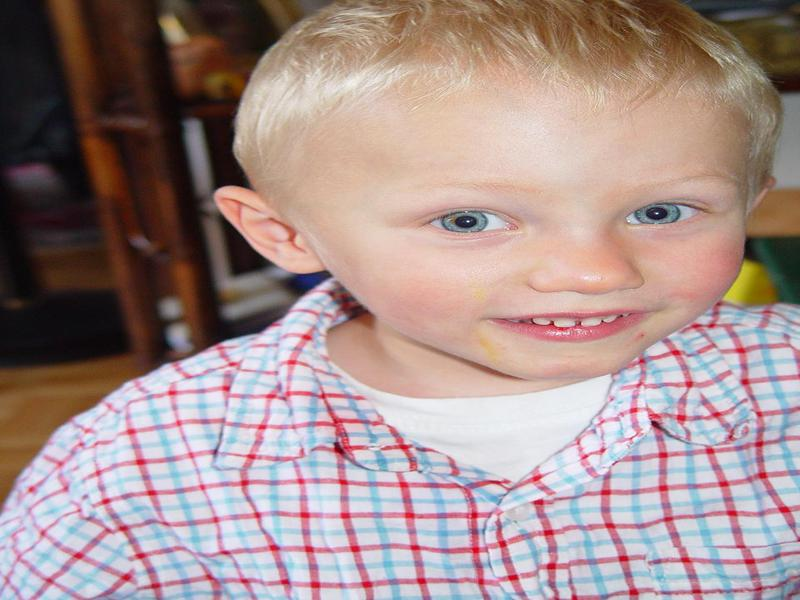person: (25, 1, 800, 600)
